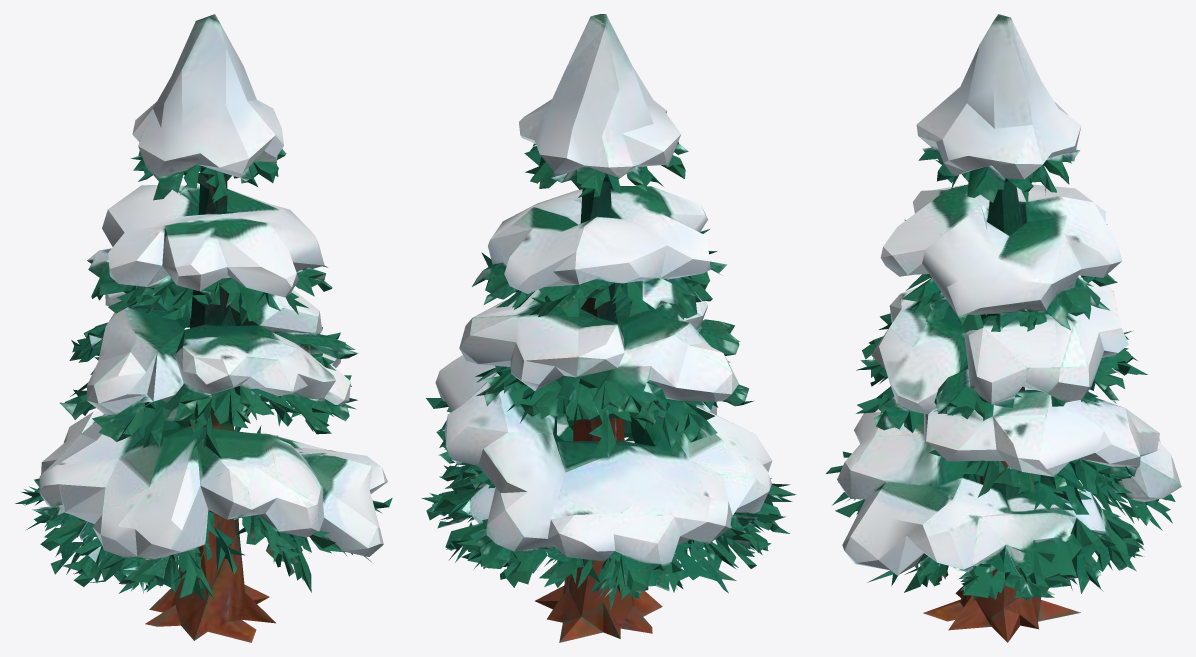
Rendered from pine_tree.glb.
3 renders of one model, left to right at view 1: azimuth 30°, elevation 25°; view 2: azimuth 150°, elevation 25°; view 3: azimuth 270°, elevation 25°, orthographic.
Size of the model in its own units: 1.08 by 1.9 by 1.03.
1 material, 1 textured.
